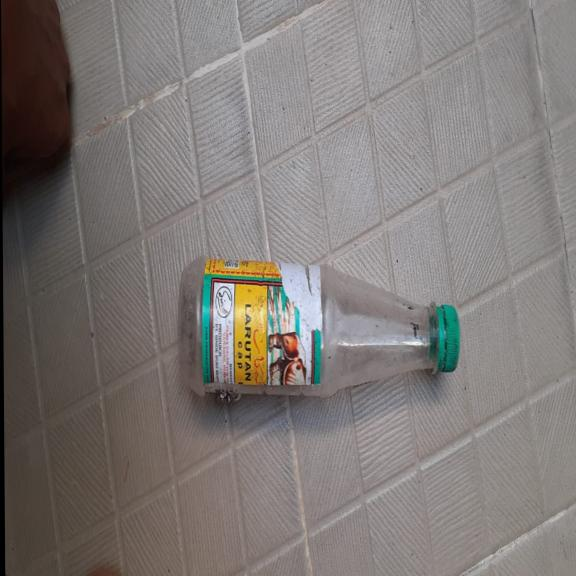Plastik: (173, 262, 466, 410)
